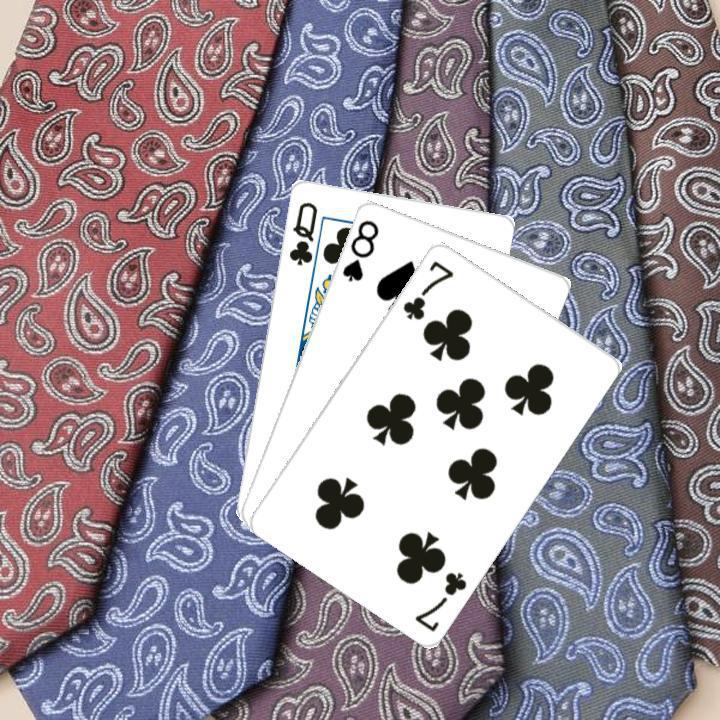7: (410, 567, 469, 634), (398, 255, 456, 322)
8: (337, 215, 381, 284)
Q: (284, 197, 319, 267)
